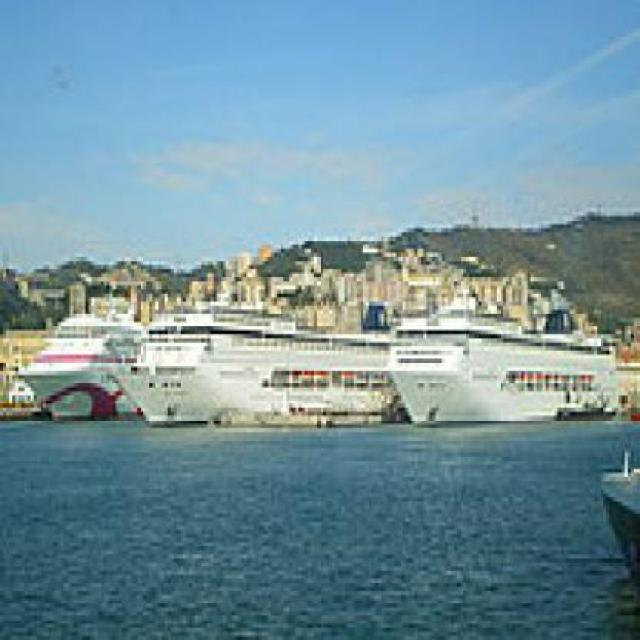cruise: (370, 274, 639, 442), (135, 279, 379, 445), (41, 290, 169, 429)
